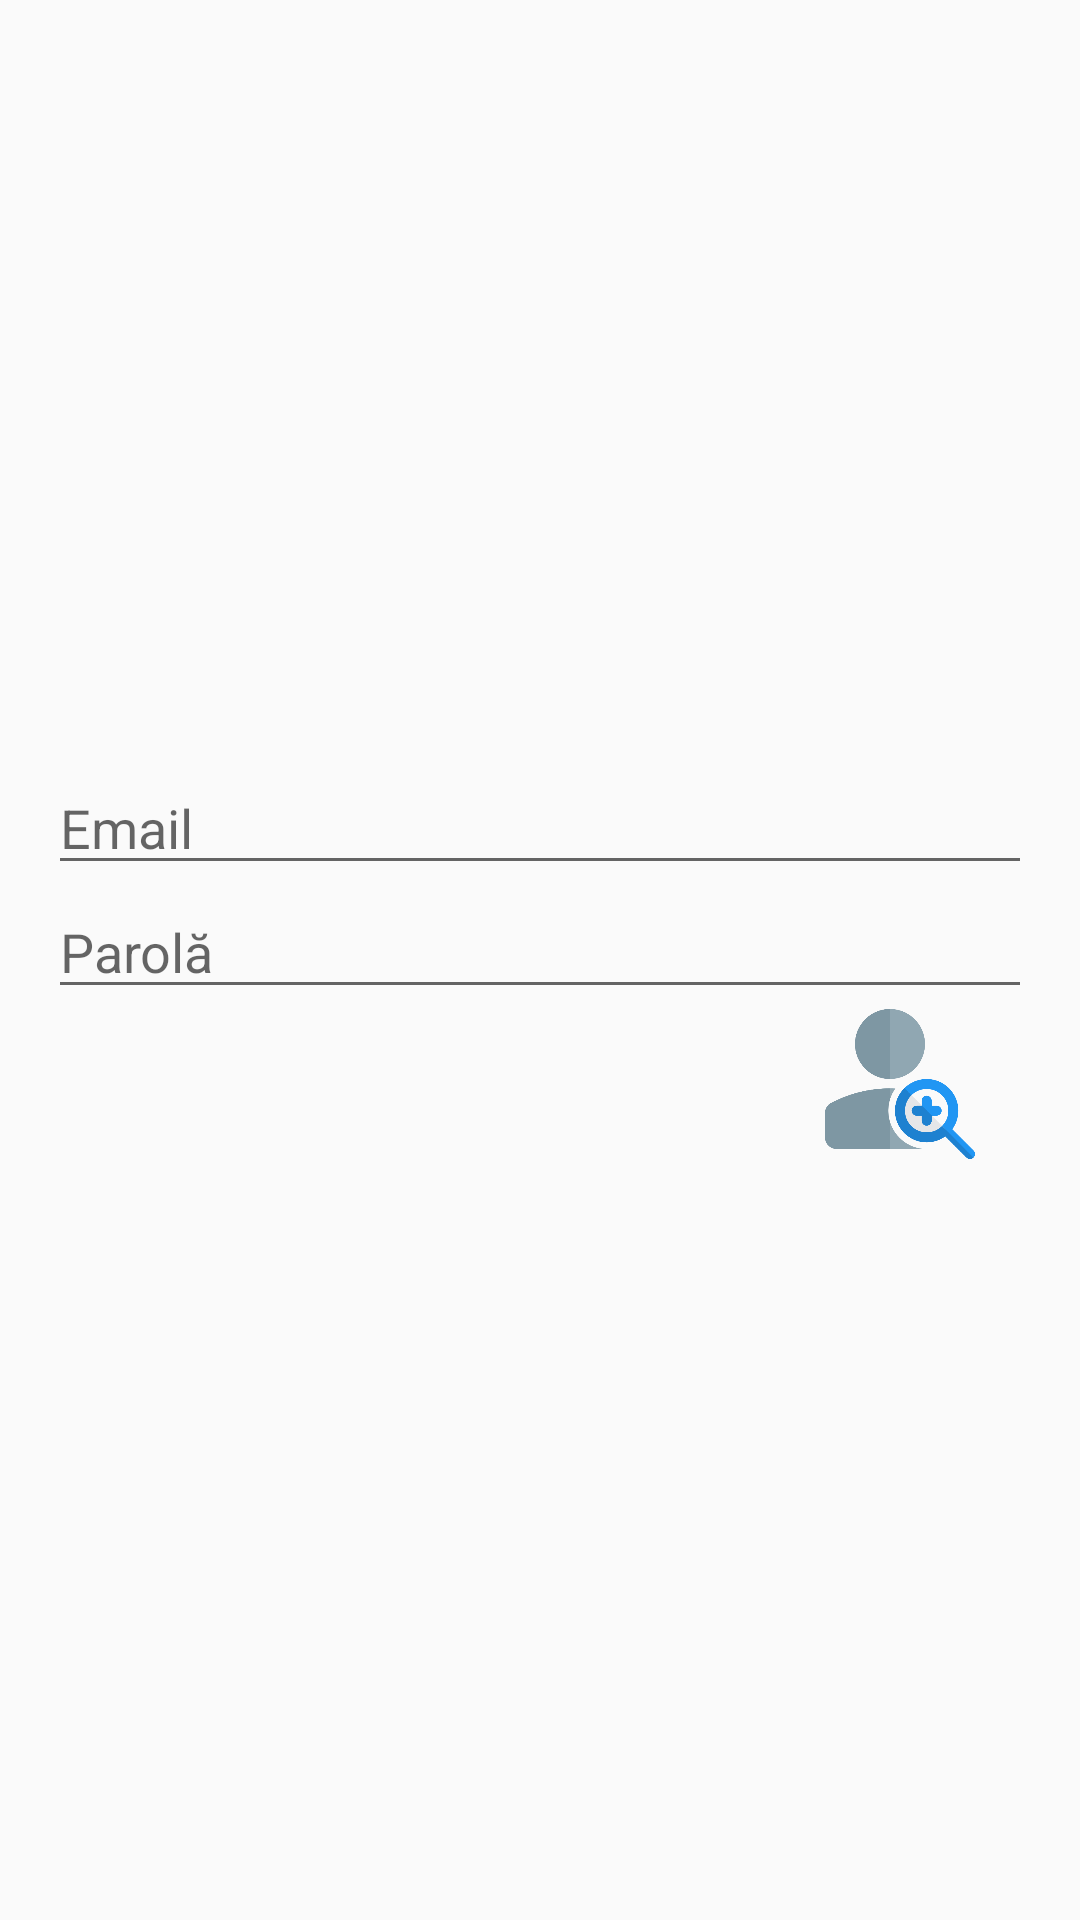

Icons on this 1080x1920 Android screen, each with the point to tap as (x=x, y=y):
register: (x=900, y=1084)
